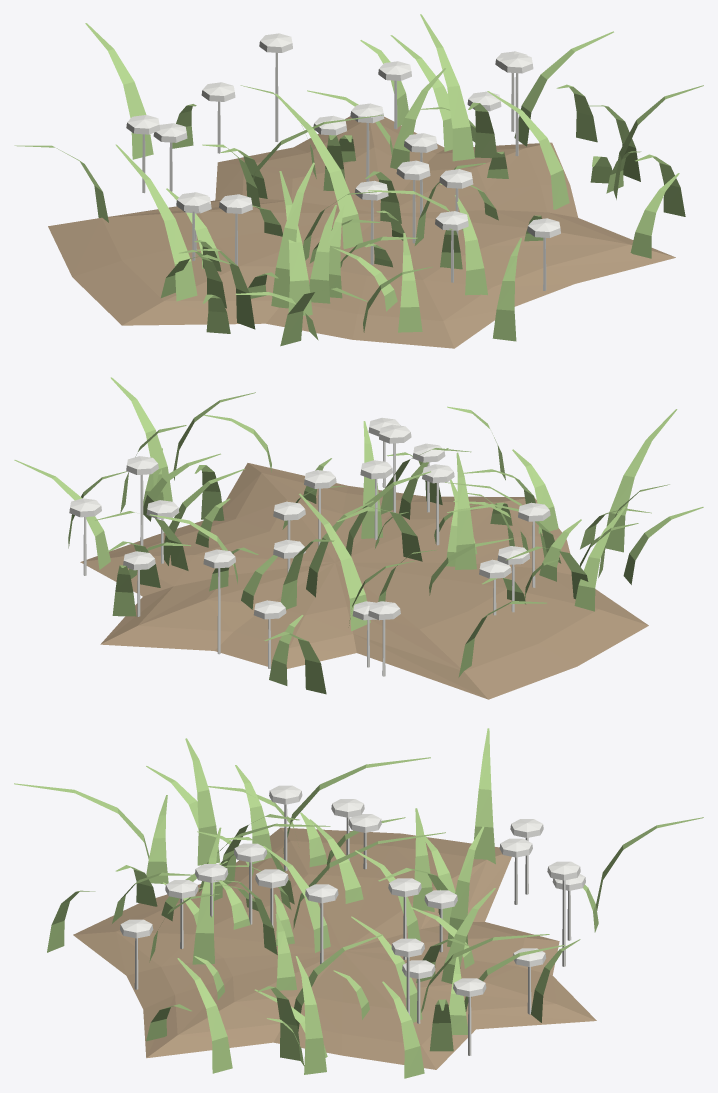
Rendered from temperate-forest-ecology-wood-anemone-carpet-b59e5c2d__3854.glb.
3 views of the same model, one above another, from view 1: azimuth 30°, elevation 25°; view 2: azimuth 150°, elevation 25°; view 3: azimuth 270°, elevation 25° (orthographic). The views are drawn at different scales.
Visible parts, largest first — view 1: wood-anemone-carpet; view 2: wood-anemone-carpet; view 3: wood-anemone-carpet.
Part boxes in pixels (box(x1,y1,x2,y2)): wood-anemone-carpet: box(14, 14, 703, 348); wood-anemone-carpet: box(14, 377, 703, 699); wood-anemone-carpet: box(14, 728, 703, 1078).
Bounding box in the file's own units: 1.44 × 0.2653 × 1.53.
